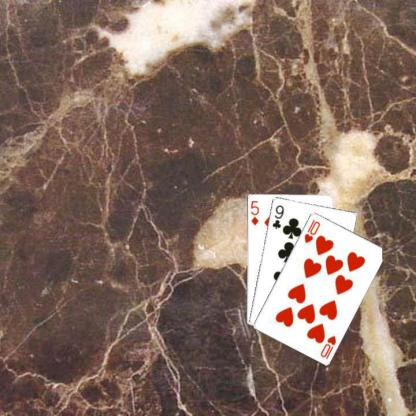10H: (317, 333, 337, 360), (302, 217, 321, 244)
5D: (248, 198, 260, 226)
9C: (270, 202, 285, 230)
